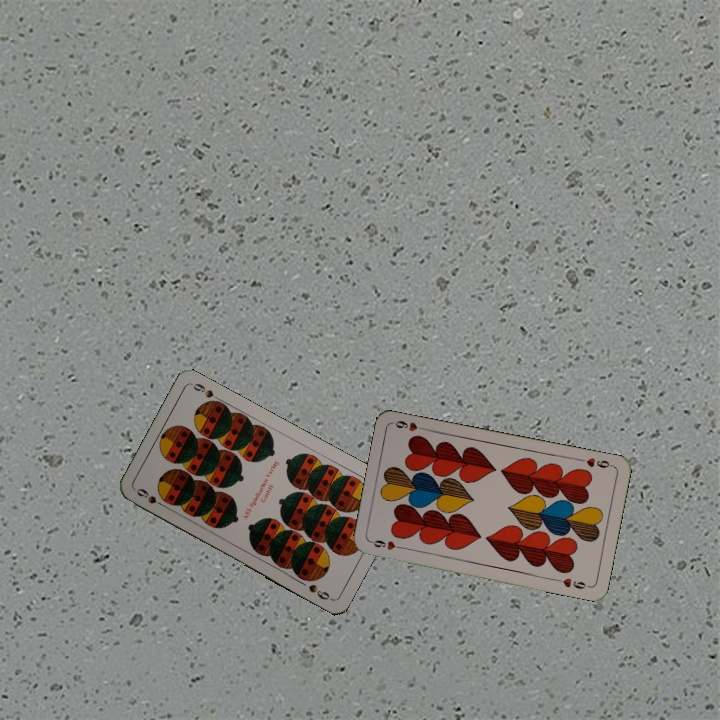H9: (575, 454, 616, 471), (367, 536, 407, 553)
S9: (132, 484, 170, 511)
